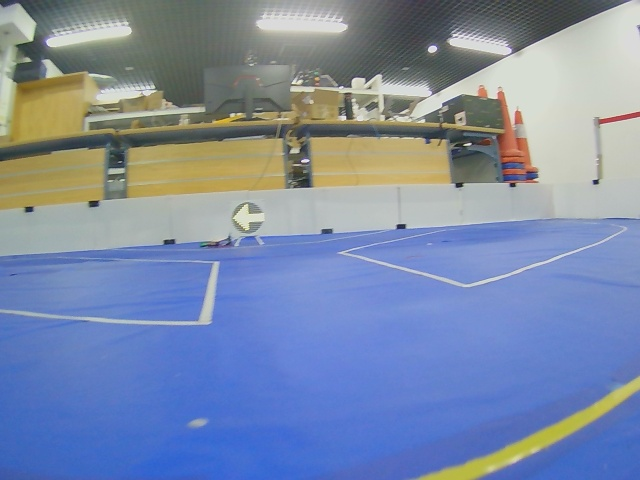left_yellow: (232, 202, 265, 233)
